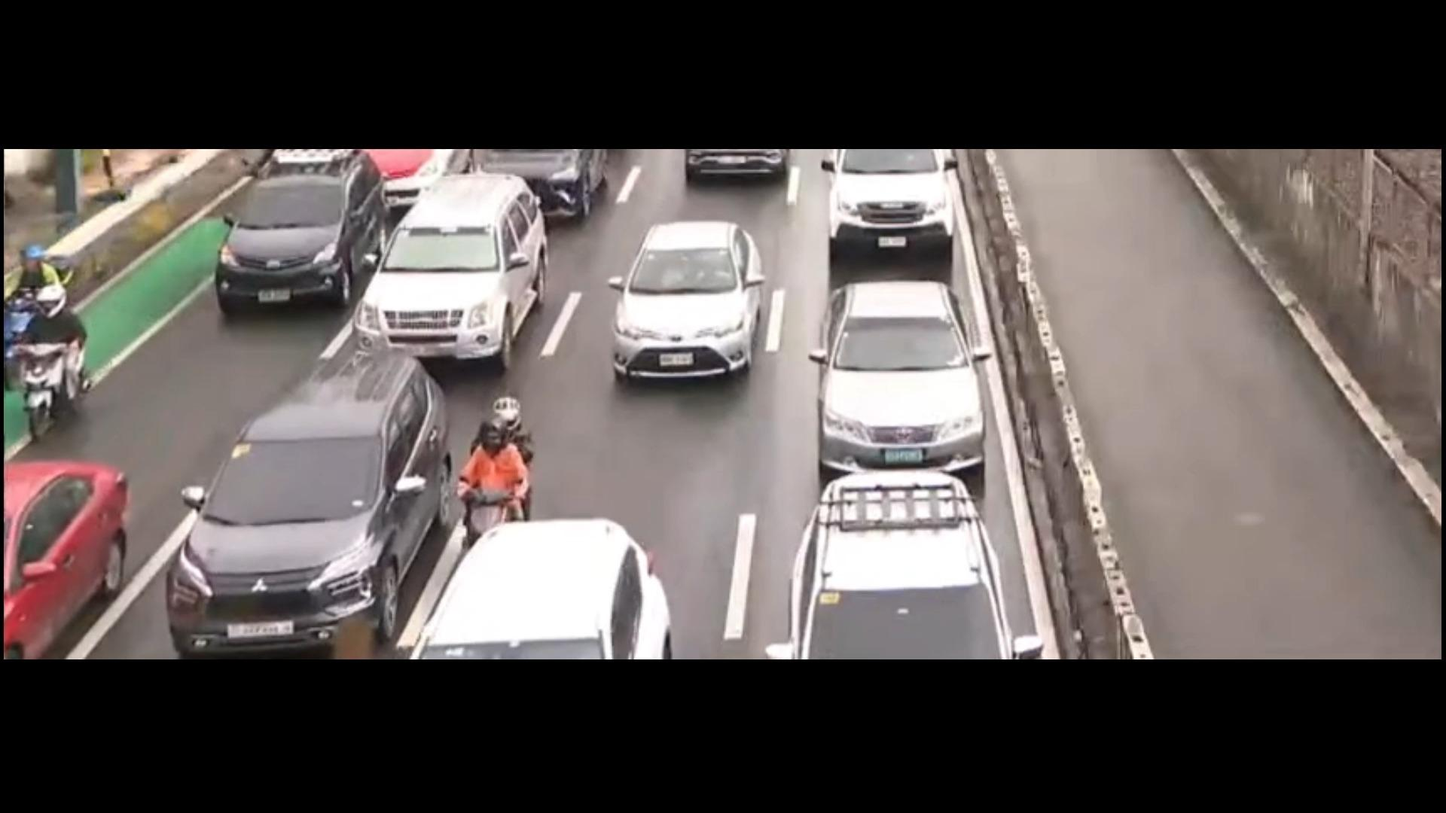Motorcycle: (438, 390, 552, 537), (12, 270, 98, 441), (0, 229, 77, 359)
SUV: (168, 354, 457, 655), (765, 459, 1034, 667), (402, 509, 708, 660), (361, 170, 562, 363), (195, 152, 392, 334), (817, 149, 968, 268)
Sedan: (801, 267, 1003, 479), (588, 216, 787, 390), (0, 452, 142, 661)
